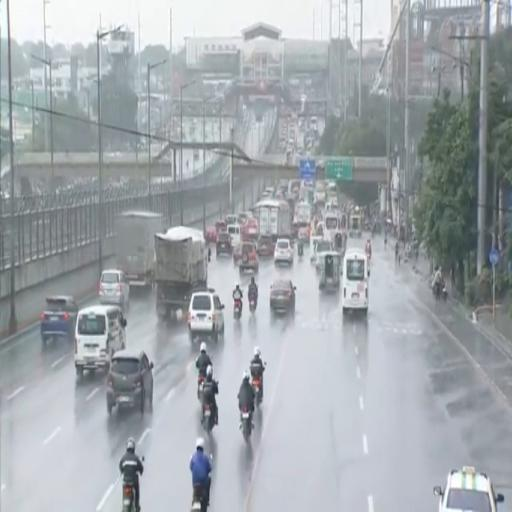car: (75, 306, 127, 378), (434, 467, 504, 511), (107, 349, 153, 413), (188, 290, 224, 342), (41, 296, 78, 344), (99, 269, 129, 306), (270, 280, 296, 313), (238, 243, 258, 274), (274, 238, 293, 266), (216, 232, 232, 255), (258, 235, 273, 257), (205, 227, 217, 243), (298, 228, 309, 244)
motorcycle: (123, 479, 136, 511), (191, 485, 207, 511), (241, 407, 252, 442), (202, 404, 214, 436), (123, 482, 136, 511), (433, 281, 447, 301), (252, 376, 261, 407), (197, 375, 205, 401), (234, 300, 242, 319), (249, 295, 257, 313), (298, 244, 303, 257)
truck: (155, 227, 209, 318), (114, 211, 167, 287), (254, 200, 291, 243), (294, 201, 311, 227)
